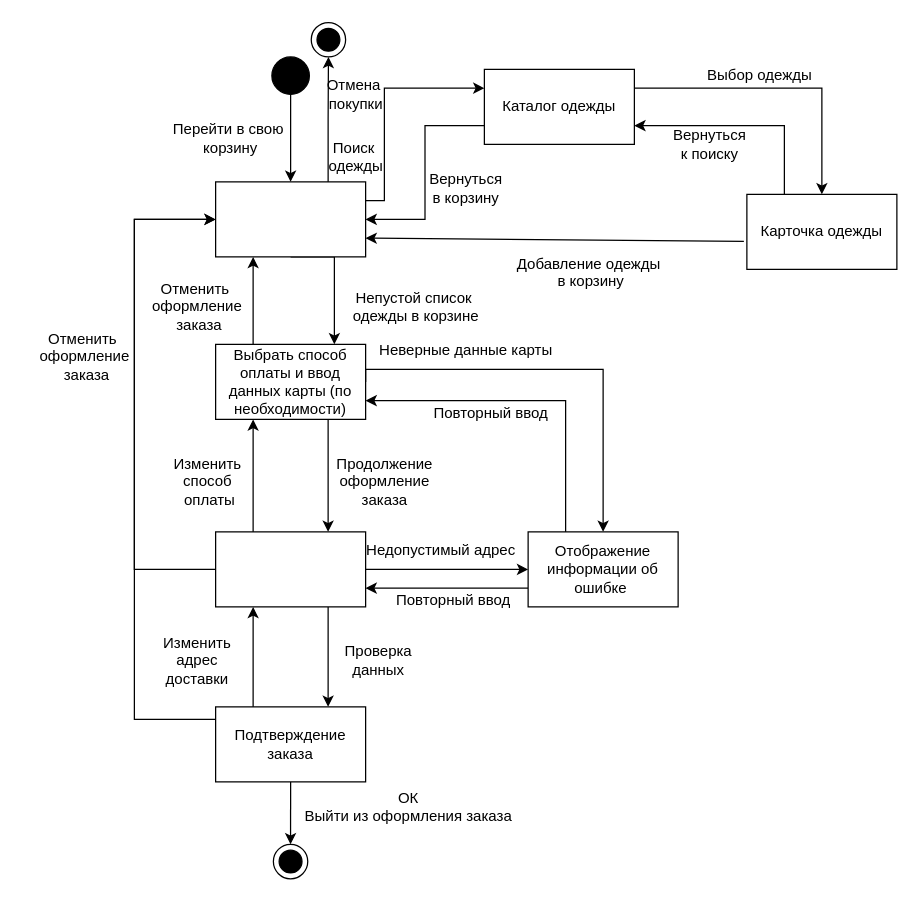
This 919x900 diagram has some shape labels left out. Here are the shapes that lost their labels. From the top down, the centre of each, then its label:
At point (290, 219): "Корзина одежды".
At point (290, 569): "Выбор адреса доставки".
